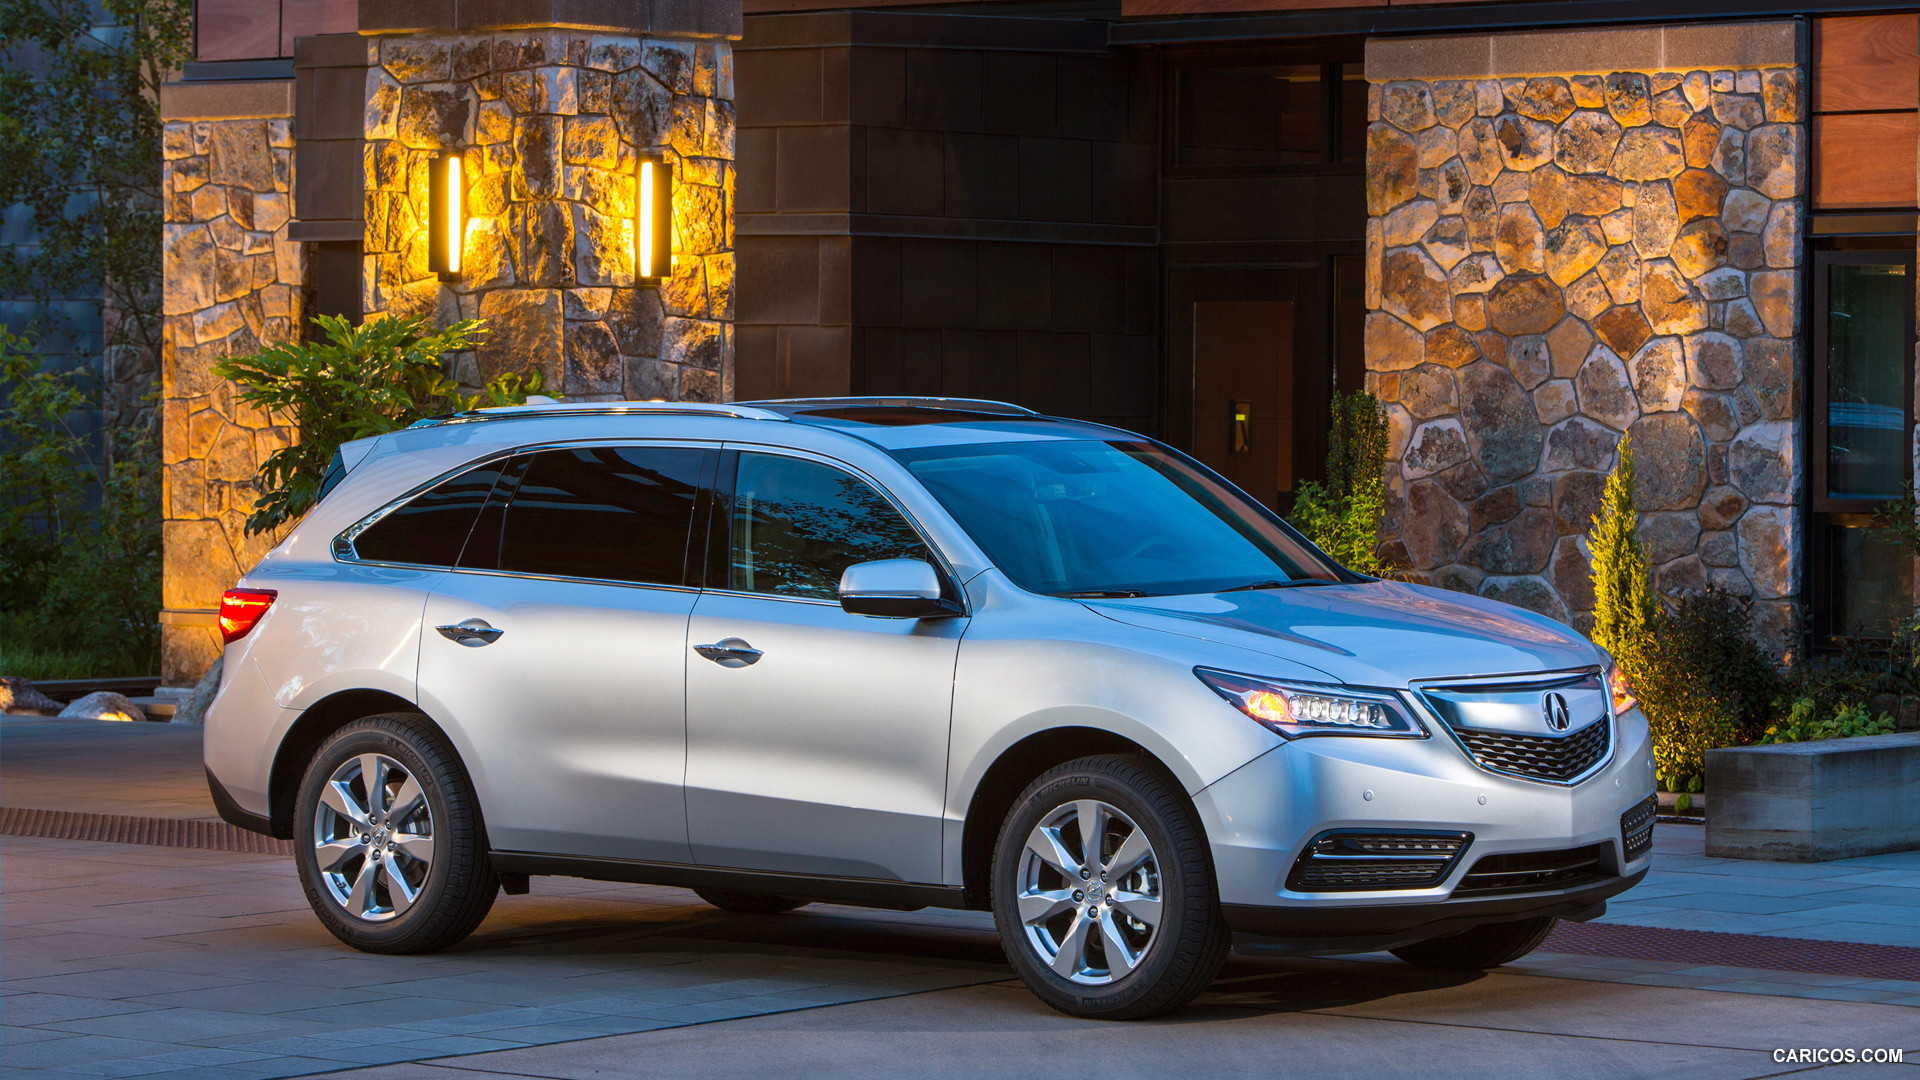Fog Lamp & Scope: (1288, 836, 1476, 889)
Front: (1030, 601, 1660, 899)
Front Bumper: (1197, 795, 1664, 898)
Grill: (1428, 691, 1615, 779)
Headlight: (1196, 676, 1420, 738)
